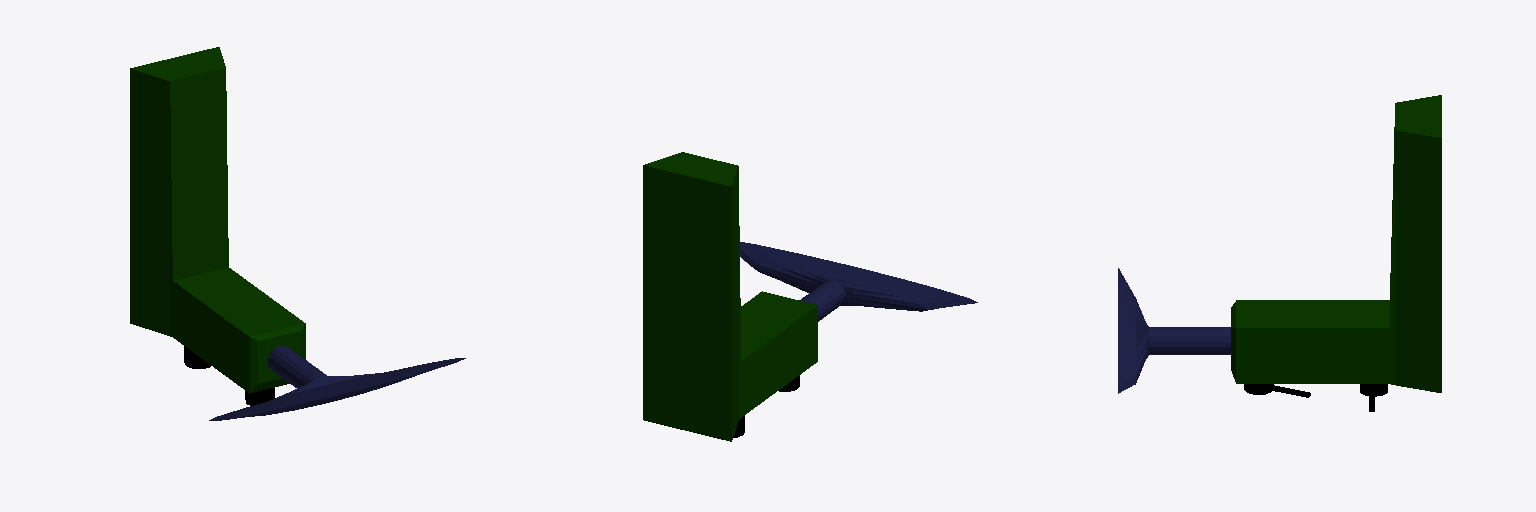
The model's file is support.obj.
The picture shows the model from 3 angles: view 1: azimuth 30°, elevation 25°; view 2: azimuth 150°, elevation 25°; view 3: azimuth 270°, elevation 25°; orthographic projection.
Size of the model in its own units: 23.32 by 23.88 by 25.14.